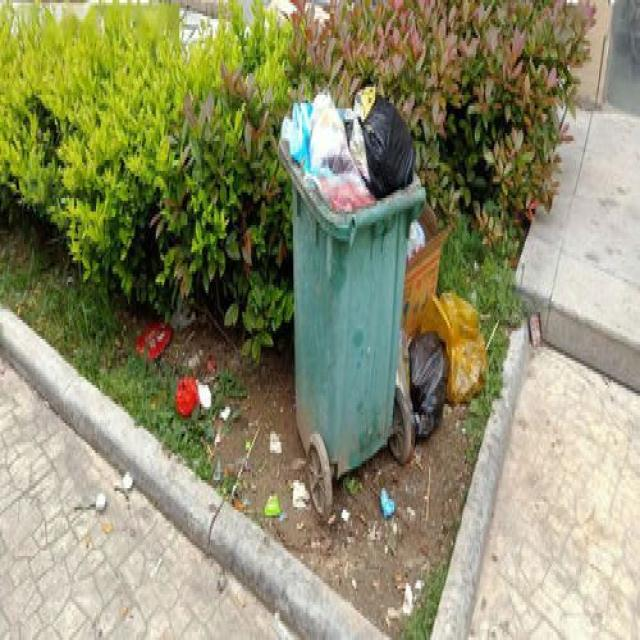garbage: (134, 312, 310, 515), (394, 201, 489, 434)
overflow: (278, 81, 425, 478)
